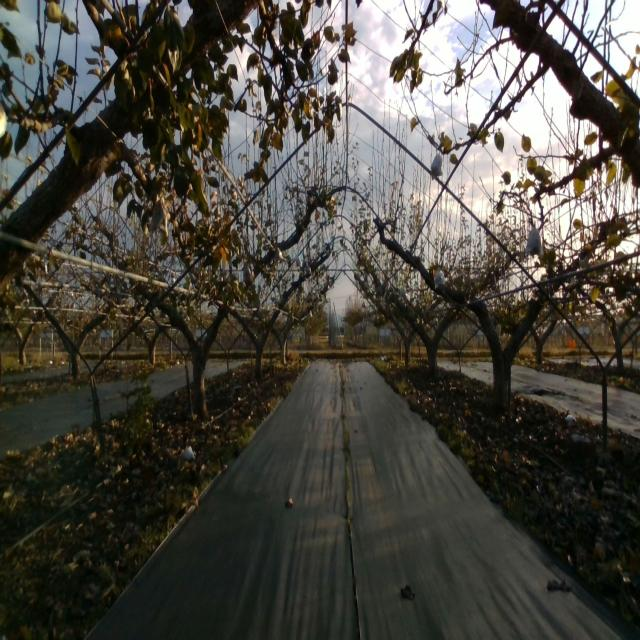pearbags: (148, 196, 168, 238), (524, 224, 542, 256), (429, 148, 443, 180), (434, 268, 445, 290), (243, 264, 253, 286)
